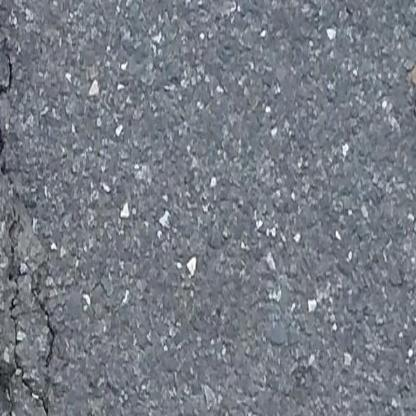Cracks: (0, 219, 61, 416), (0, 44, 24, 201)
